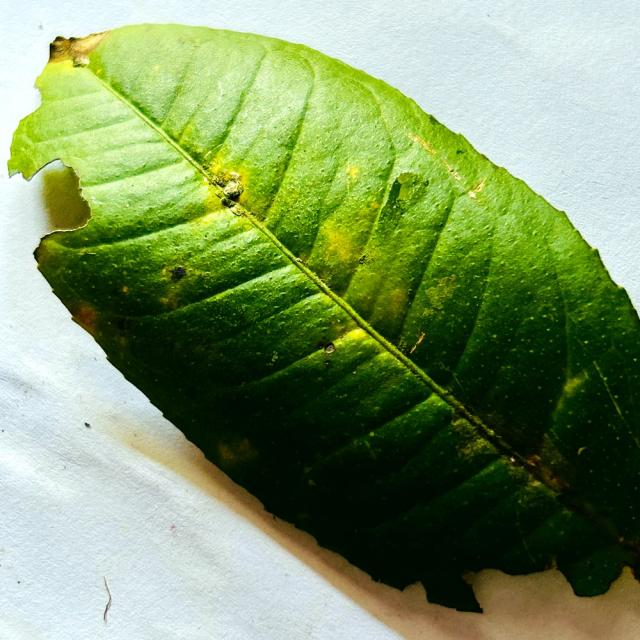Deficiency Leaf: (463, 567, 639, 624), (10, 160, 91, 248), (386, 575, 428, 604)
Lemon: (8, 24, 639, 611)
